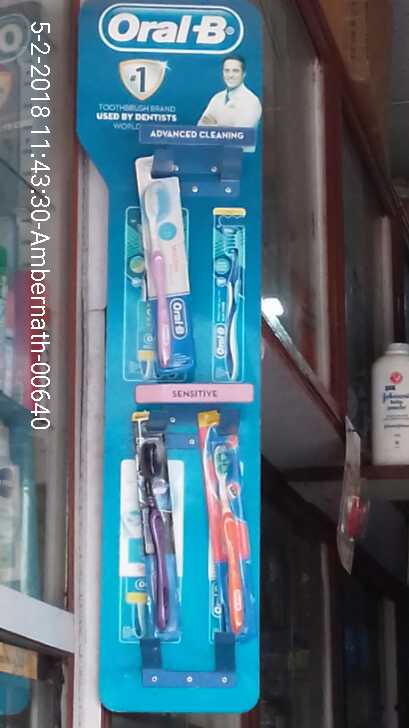oralb: (195, 429, 257, 636), (126, 415, 181, 640), (145, 172, 194, 379)
